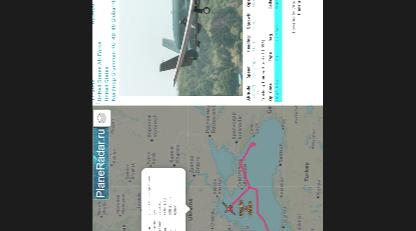P3: (159, 0, 212, 88)
